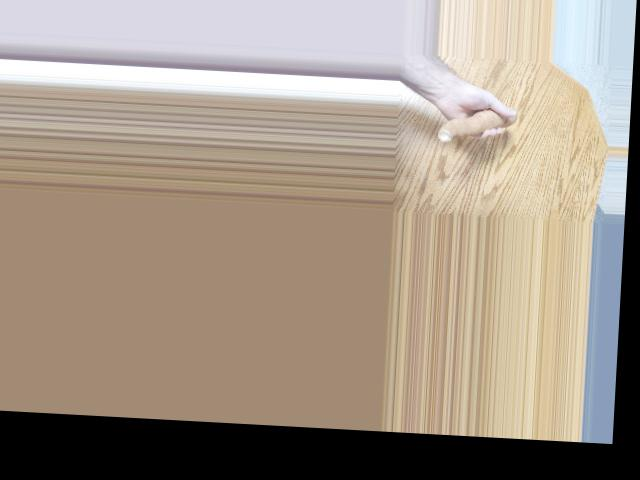sweet_potato: (432, 106, 521, 145)
